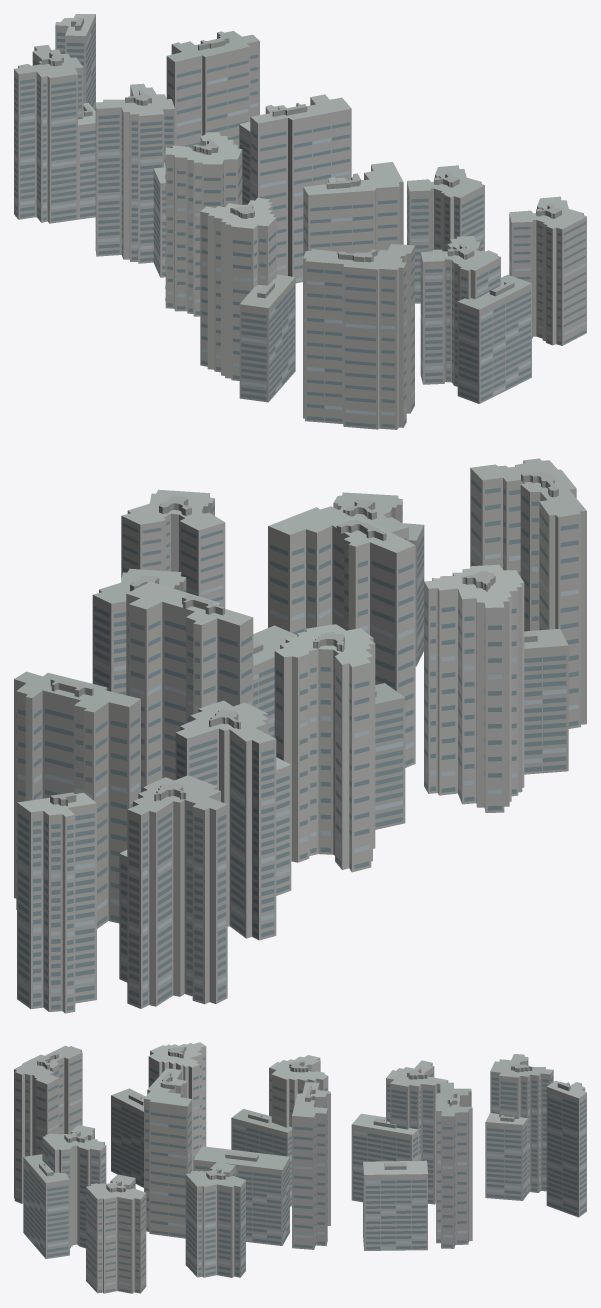
Rendered from apt-a10024398.glb.
3 views of the same model, one above another, from view 1: azimuth 30°, elevation 25°; view 2: azimuth 150°, elevation 25°; view 3: azimuth 270°, elevation 25° (orthographic). The views are drawn at different scales.
Parts seen in each view (by area): view 1: apt-a10024398; view 2: apt-a10024398; view 3: apt-a10024398.
Part boxes in pixels (x1,y1,x2,y2): apt-a10024398: [14, 14, 586, 429]; apt-a10024398: [14, 458, 586, 1013]; apt-a10024398: [14, 1042, 586, 1293].
Bounding box in the file's own units: 167 × 82 × 312.
